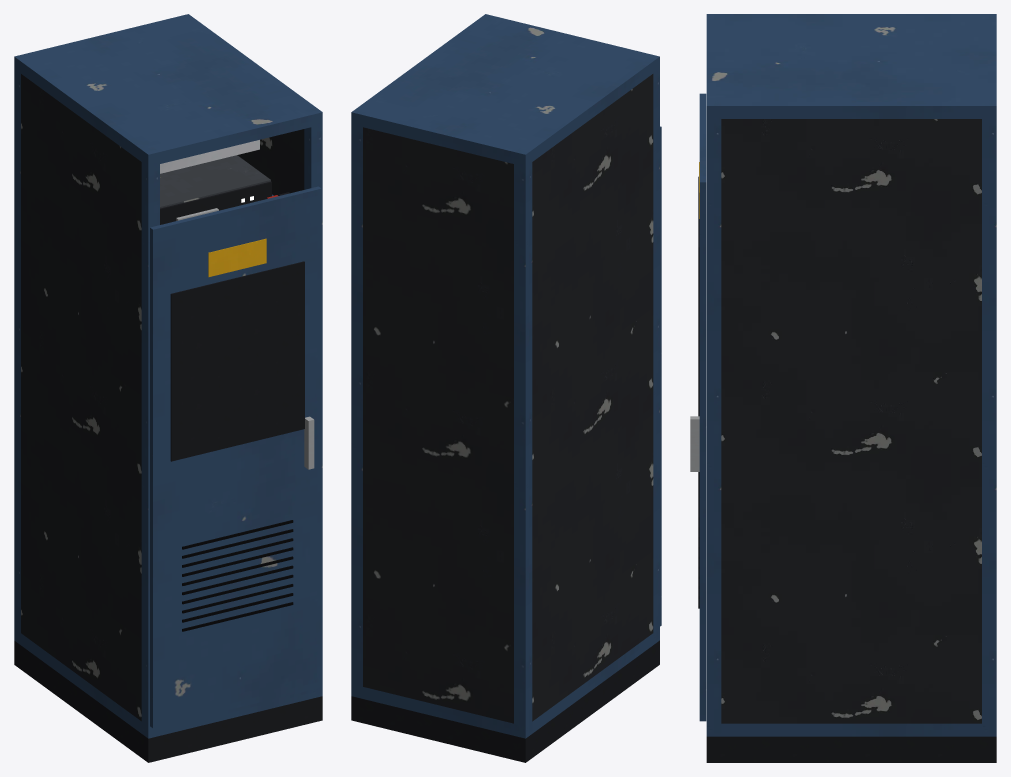
Rendered from battery-rack-li.glb.
The picture shows the model from 3 angles, left to right: view 1: azimuth 30°, elevation 25°; view 2: azimuth 150°, elevation 25°; view 3: azimuth 270°, elevation 25°; orthographic projection. The views are drawn at different scales.
Visible parts, largest first — view 1: battery-rack-li; view 2: battery-rack-li; view 3: battery-rack-li.
Boxes of the visible parts, x1=… form: battery-rack-li: x1=14, y1=14, x2=322, y2=762; battery-rack-li: x1=351, y1=14, x2=661, y2=762; battery-rack-li: x1=690, y1=14, x2=996, y2=762.
Bounding box in the file's own units: 0.5999 × 2 × 0.8451.
Materials: 12 (9 with a texture image).
